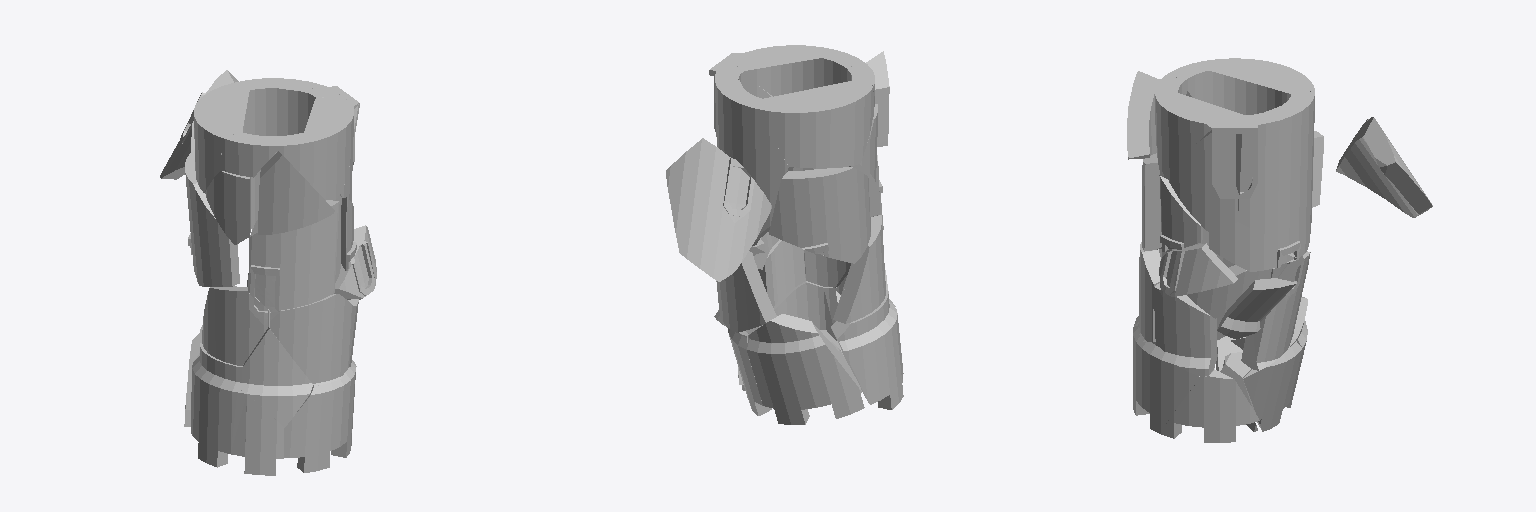
File: destruction_tower_000031.obj
The picture shows the model from 3 angles: view 1: azimuth 30°, elevation 25°; view 2: azimuth 150°, elevation 25°; view 3: azimuth 270°, elevation 25°; orthographic projection.
Parts seen in each view (by area): view 1: tower.001_cell.024_Mesh.024, tower.001_cell.021_Mesh.021, tower.001_cell.028_Mesh.028, tower.001_cell.006_Mesh.006, tower.001_cell.009_Mesh.009, tower.001_cell.013_Mesh.013, tower.001_cell.011_Mesh.011, tower.001_cell.002_Mesh.002, tower.001_cell.003_Mesh.003, tower.001_cell.017_Mesh.017, tower.001_cell.015_Mesh.015, tower.001_cell.005_Mesh.005 (+8 smaller); view 2: tower.001_cell.025_Mesh.025, tower.001_cell.007_Mesh.007, tower.001_cell.015_Mesh.015, tower.001_cell.003_Mesh.003, tower.001_cell.017_Mesh.017, tower.001_cell.028_Mesh.028, tower.001_cell.005_Mesh.005, tower.001_cell.009_Mesh.009, tower.001_cell.012_Mesh.012, tower.001_cell_Mesh, tower.001_cell.023_Mesh.023, tower.001_cell.021_Mesh.021 (+6 smaller); view 3: tower.001_cell.017_Mesh.017, tower.001_cell.020_Mesh.020, tower.001_cell.015_Mesh.015, tower.001_cell.025_Mesh.025, tower.001_cell.028_Mesh.028, tower.001_cell_Mesh, tower.001_cell.030_Mesh.030, tower.001_cell.012_Mesh.012, tower.001_cell.010_Mesh.010, tower.001_cell.023_Mesh.023, tower.001_cell.029_Mesh.029, tower.001_cell.026_Mesh.026 (+12 smaller).
Boxes of the visible parts, <box> form: tower.001_cell.024_Mesh.024: <box>248,200,339,311</box>; tower.001_cell.021_Mesh.021: <box>270,294,352,385</box>; tower.001_cell.028_Mesh.028: <box>270,97,358,200</box>; tower.001_cell.006_Mesh.006: <box>197,391,283,475</box>; tower.001_cell.009_Mesh.009: <box>202,286,268,365</box>; tower.001_cell.013_Mesh.013: <box>241,327,312,427</box>; tower.001_cell.011_Mesh.011: <box>284,379,344,472</box>; tower.001_cell.002_Mesh.002: <box>258,151,334,234</box>; tower.001_cell.003_Mesh.003: <box>185,149,239,286</box>; tower.001_cell.017_Mesh.017: <box>231,78,323,229</box>; tower.001_cell.015_Mesh.015: <box>194,84,249,192</box>; tower.001_cell.005_Mesh.005: <box>191,343,243,439</box>; tower.001_cell.025_Mesh.025: <box>666,138,771,281</box>; tower.001_cell.007_Mesh.007: <box>747,314,864,424</box>; tower.001_cell.015_Mesh.015: <box>758,81,873,168</box>; tower.001_cell.003_Mesh.003: <box>769,167,870,263</box>; tower.001_cell.017_Mesh.017: <box>715,74,793,241</box>; tower.001_cell.028_Mesh.028: <box>732,45,862,96</box>; tower.001_cell.005_Mesh.005: <box>831,290,897,404</box>; tower.001_cell.009_Mesh.009: <box>833,215,885,323</box>; tower.001_cell.012_Mesh.012: <box>714,251,776,332</box>; tower.001_cell_Mesh: <box>758,239,805,309</box>; tower.001_cell.023_Mesh.023: <box>774,281,841,351</box>; tower.001_cell.021_Mesh.021: <box>804,250,850,287</box>; tower.001_cell.017_Mesh.017: <box>1264,91,1314,259</box>; tower.001_cell.020_Mesh.020: <box>1166,122,1241,232</box>; tower.001_cell.015_Mesh.015: <box>1209,58,1314,114</box>; tower.001_cell.025_Mesh.025: <box>1336,117,1432,217</box>; tower.001_cell.028_Mesh.028: <box>1155,76,1242,172</box>; tower.001_cell_Mesh: <box>1154,283,1217,376</box>; tower.001_cell.030_Mesh.030: <box>1160,370,1259,442</box>; tower.001_cell.012_Mesh.012: <box>1241,251,1310,370</box>; tower.001_cell.010_Mesh.010: <box>1159,243,1237,296</box>; tower.001_cell.023_Mesh.023: <box>1144,341,1214,433</box>; tower.001_cell.029_Mesh.029: <box>1243,339,1302,431</box>; tower.001_cell.026_Mesh.026: <box>1235,113,1263,232</box>.
Size of the model in its own units: 55.84 by 96.16 by 81.65.